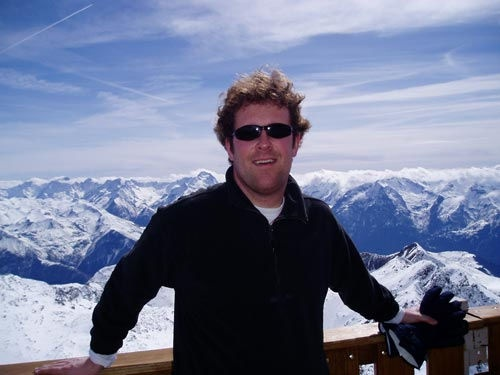head: (214, 70, 313, 196)
person: (31, 65, 468, 375)
